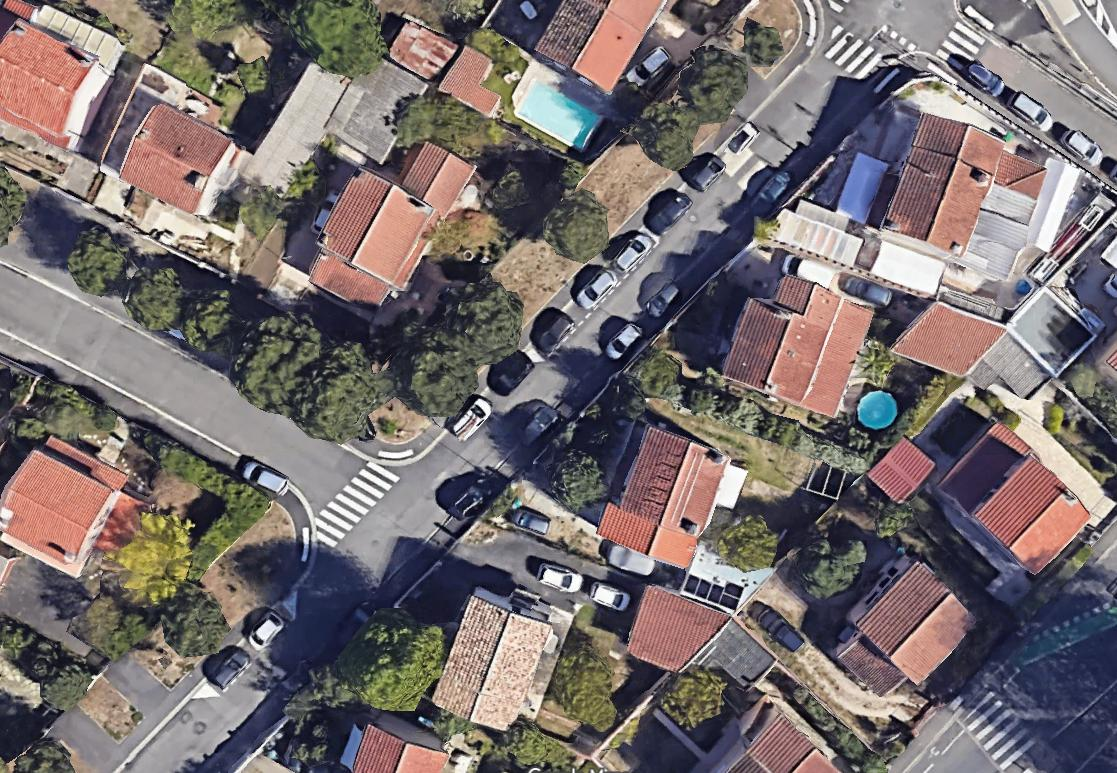maison: (294, 115, 474, 325), (881, 109, 1050, 273), (932, 418, 1096, 580), (821, 547, 981, 710), (718, 264, 875, 418), (429, 572, 571, 740), (0, 427, 147, 589), (587, 417, 736, 575), (0, 12, 118, 156), (115, 99, 241, 220), (532, 0, 665, 95), (621, 585, 728, 682), (731, 709, 839, 772), (434, 42, 513, 118), (342, 725, 447, 772)
